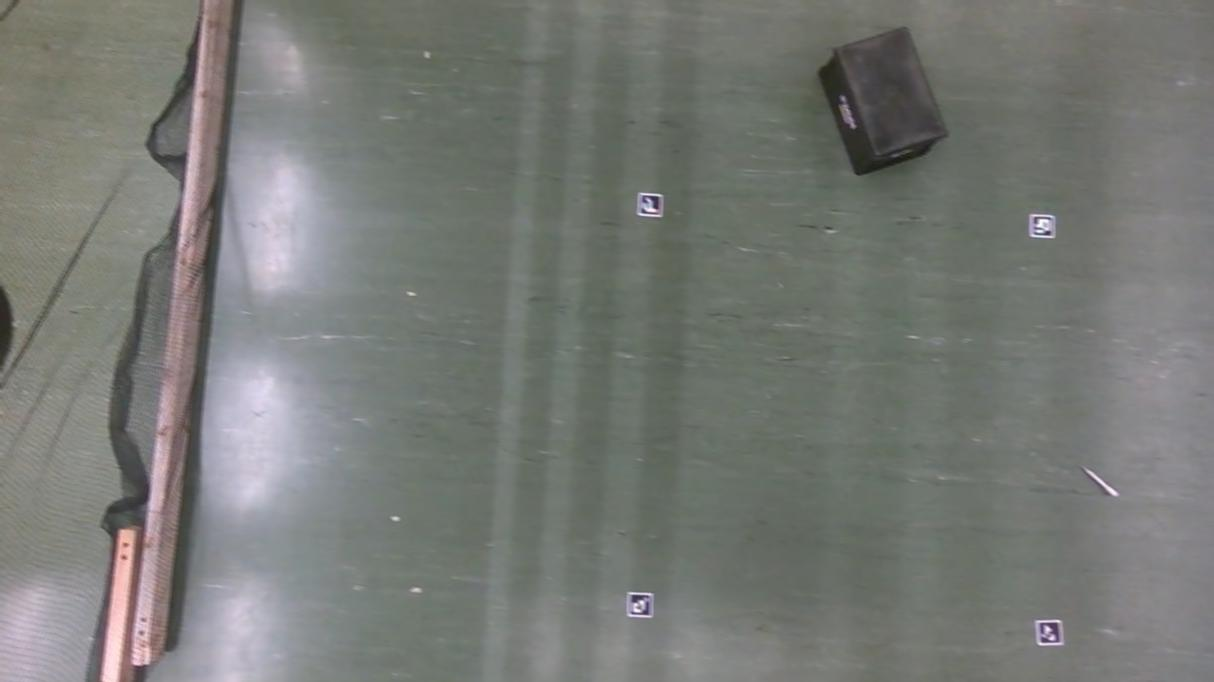probes: (1082, 465, 1120, 496)
rako: (816, 26, 947, 176)
